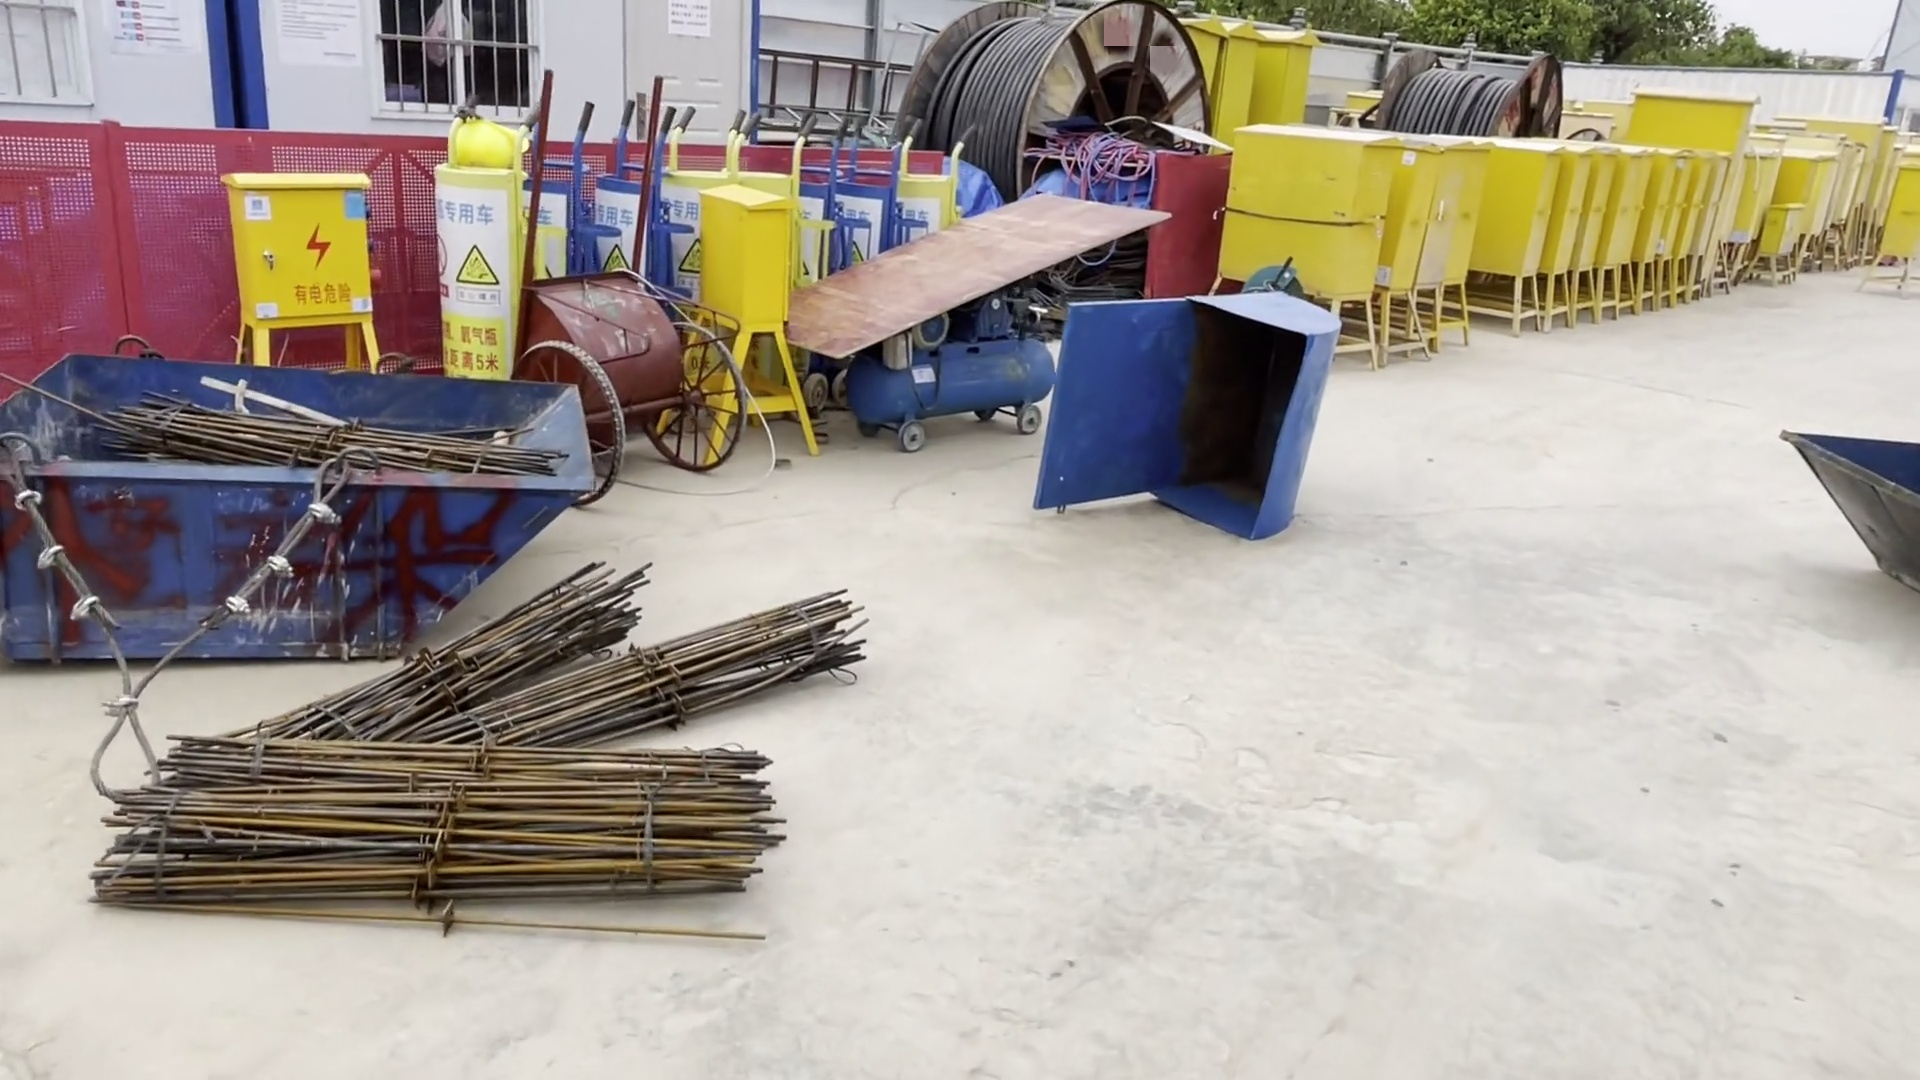ebox: (661, 178, 827, 467), (1201, 127, 1408, 297), (235, 167, 378, 368), (1381, 132, 1441, 367), (1484, 146, 1556, 342), (1437, 137, 1494, 349), (1855, 161, 1920, 295), (1623, 88, 1770, 146), (1600, 156, 1646, 318), (1549, 149, 1589, 331), (1251, 25, 1321, 124), (1739, 198, 1809, 284), (1215, 16, 1265, 120)
handcart: (524, 55, 738, 493)
hopper: (1, 367, 600, 665), (1787, 415, 1920, 605)
slogan: (433, 196, 509, 315)
